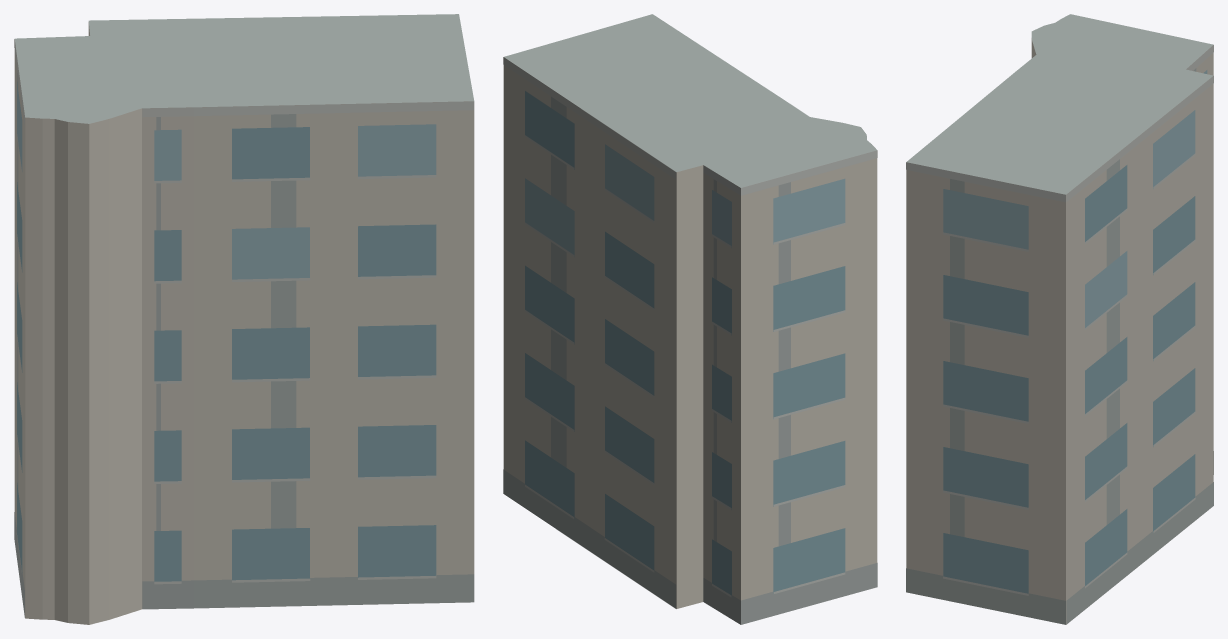
The model's file is survey-upis-33029378.glb.
3 views of the same model, side by side, from view 1: azimuth 30°, elevation 25°; view 2: azimuth 150°, elevation 25°; view 3: azimuth 270°, elevation 25° (orthographic). The views are drawn at different scales.
Visible parts, largest first — view 1: survey-upis-33029378.tmp; view 2: survey-upis-33029378.tmp; view 3: survey-upis-33029378.tmp.
Part boxes in pixels (x1,y1,x2,y2): survey-upis-33029378.tmp: [14, 14, 474, 624]; survey-upis-33029378.tmp: [503, 14, 877, 624]; survey-upis-33029378.tmp: [906, 14, 1213, 624].
Size of the model in its own units: 12.35 by 13.7 by 8.89.
